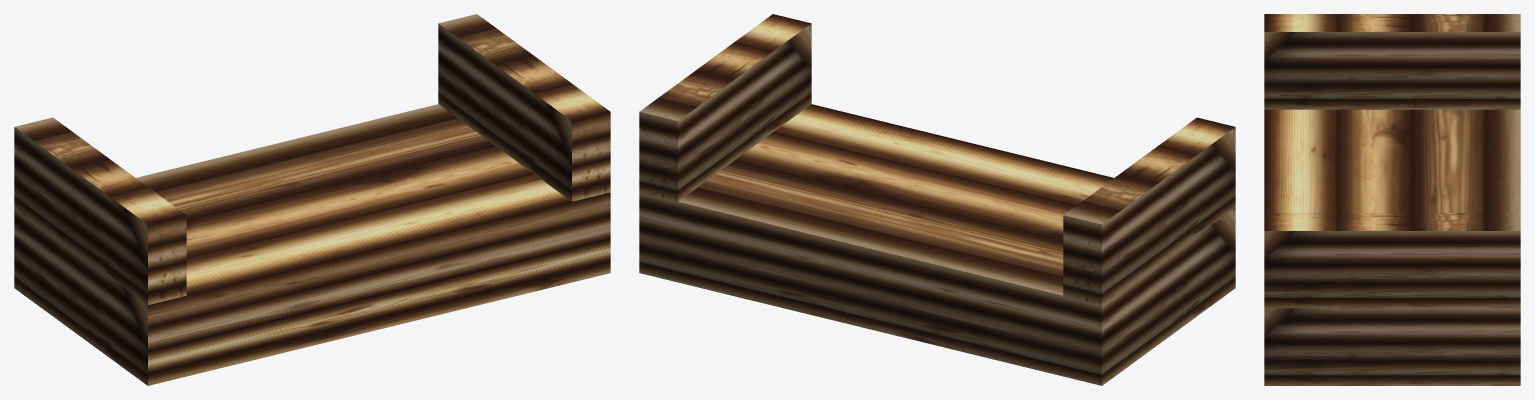
Rendered from X - Straight 2.obj.
3 renders of one model, left to right at view 1: azimuth 30°, elevation 25°; view 2: azimuth 150°, elevation 25°; view 3: azimuth 270°, elevation 25°, orthographic. The views are drawn at different scales.
Parts seen in each view (by area): view 1: polySurface9; view 2: polySurface9; view 3: polySurface9.
Part boxes in pixels (bbox=[...]): polySurface9: bbox=[14, 14, 610, 385]; polySurface9: bbox=[639, 14, 1235, 385]; polySurface9: bbox=[1264, 14, 1520, 385].
Size of the model in its own units: 420 by 140 by 210.
